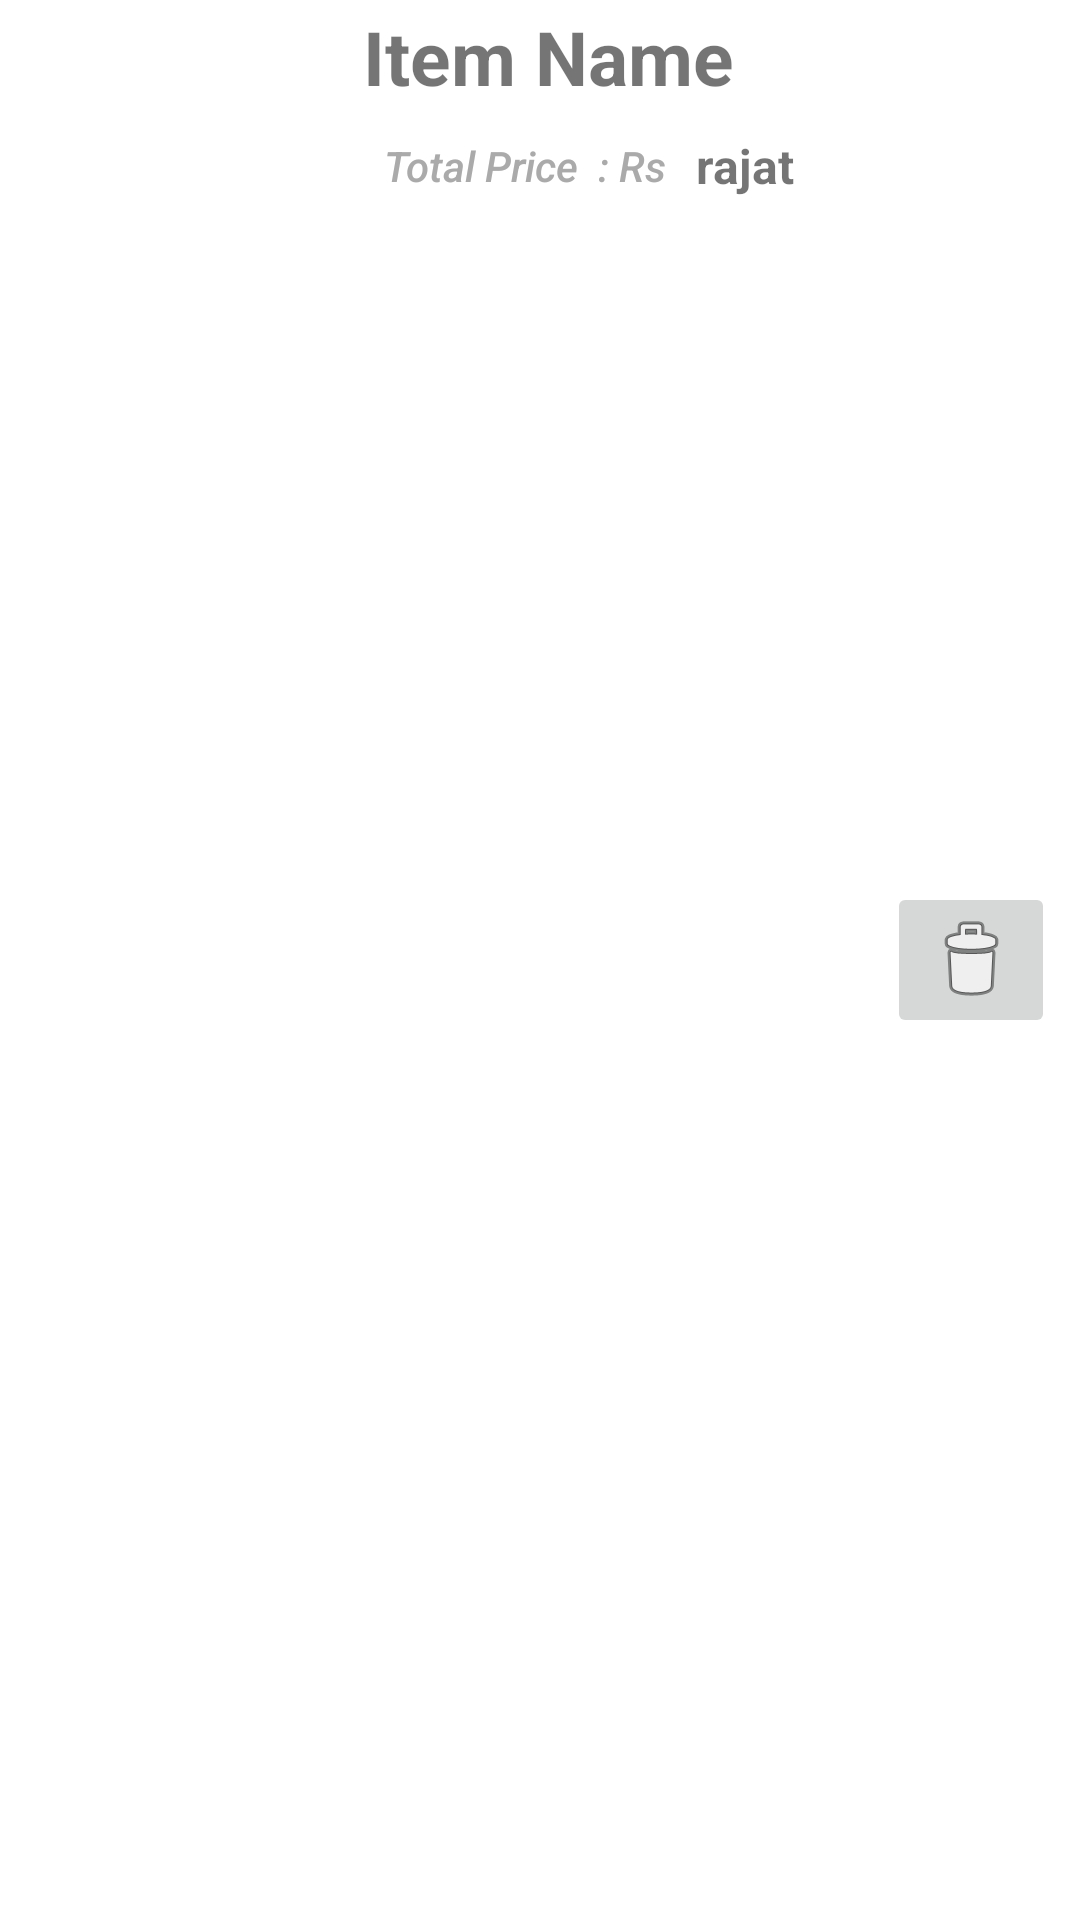

Named icons in this screenshot (1080x1920) and their centers, [x,y]:
delete: [971,960]
